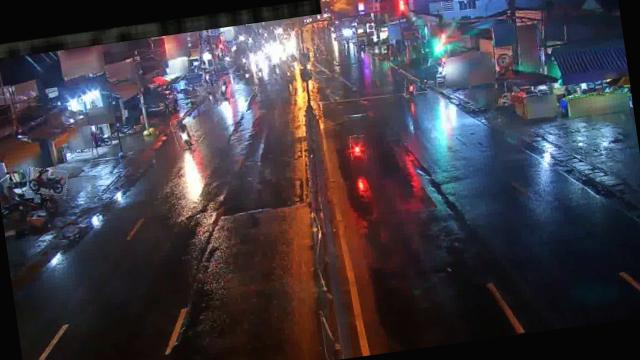Bike: (26, 165, 70, 197), (170, 116, 196, 150), (349, 135, 367, 160), (217, 78, 231, 98), (404, 77, 416, 96)
